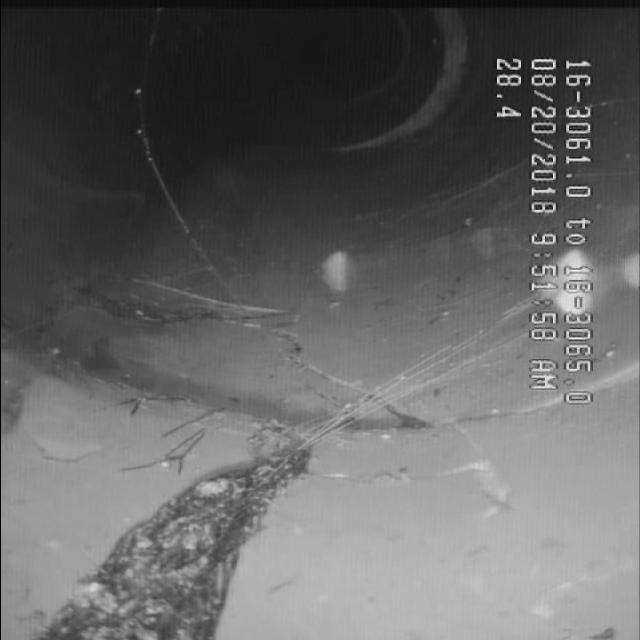Fracture: (130, 282, 480, 440)
